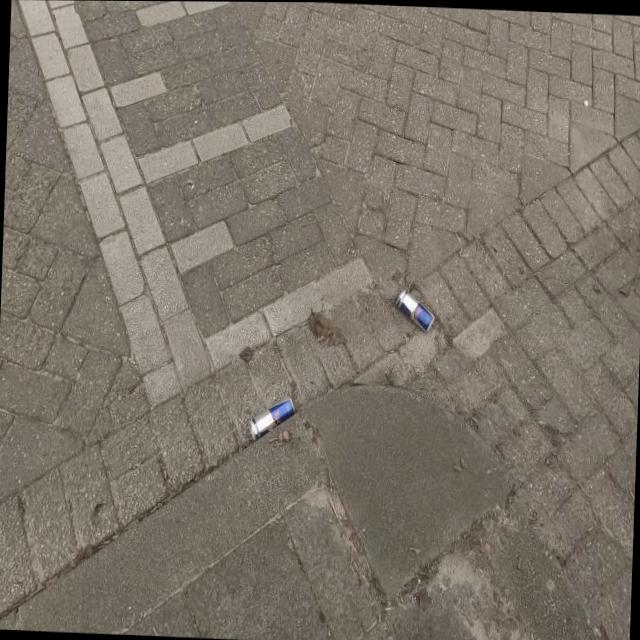Can-Metal: (247, 391, 299, 438), (395, 291, 434, 330)
